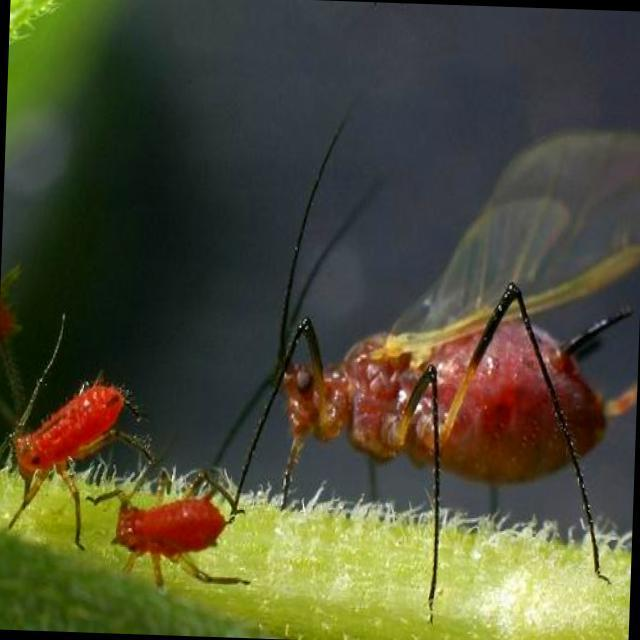aphid: (235, 214, 624, 570), (5, 358, 143, 526)
